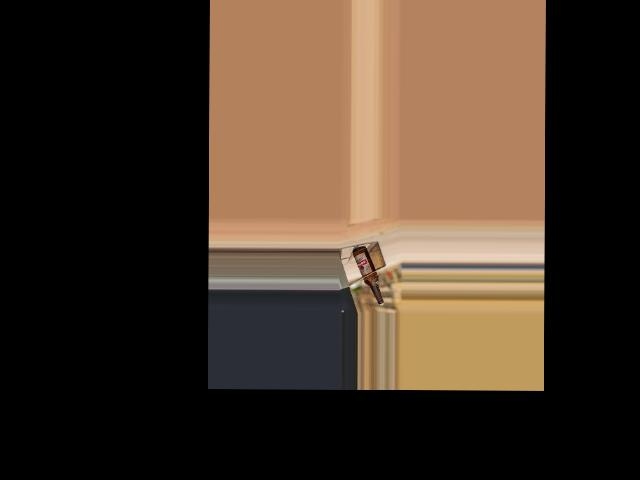beer: (351, 245, 384, 306)
